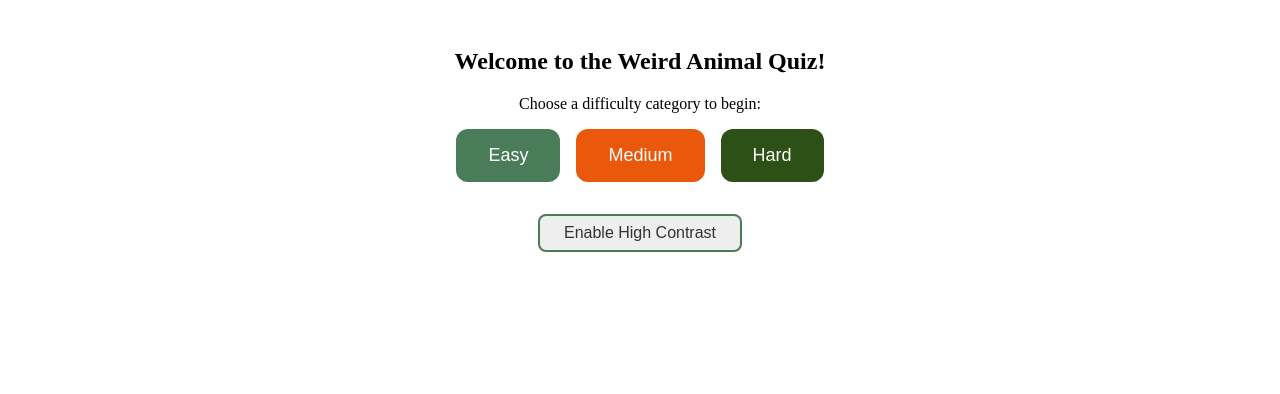
Scenario: QuizContainer Accessibility & Interaction › renders start screen and allows category selection
Expected: the heading "Welcome to the Weird Animal Quiz!" is shown, x1=455 y1=48 x2=826 y2=74
Click the button "Easy": (508, 155) x1=456 y1=129 x2=560 y2=182
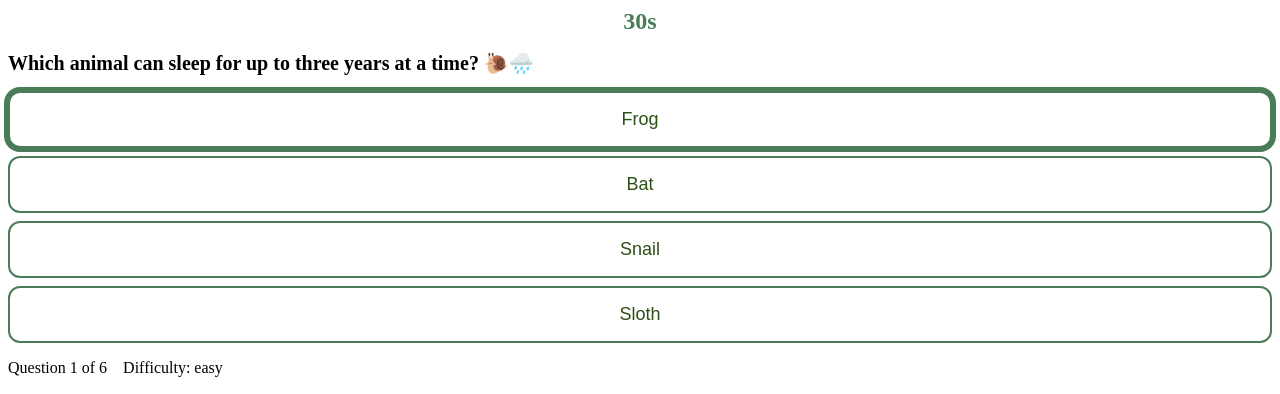
Expected: the text "Question 1 of 6" is shown, x1=8 y1=359 x2=107 y2=376
